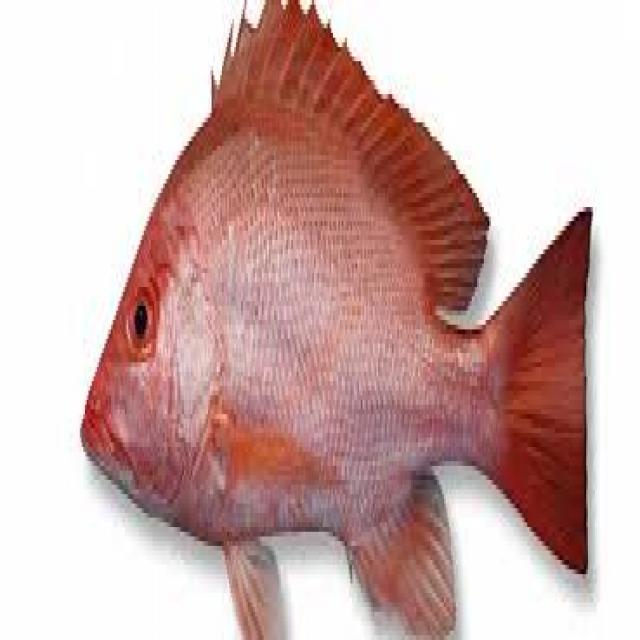northern-red-snapper: (69, 0, 602, 640)
